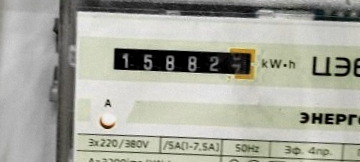1: (119, 51, 130, 69)
2: (207, 53, 219, 71)
5: (140, 52, 153, 70)
7: (229, 61, 241, 75)
8: (163, 53, 175, 70), (186, 54, 197, 71)
screen: (104, 36, 262, 84)
